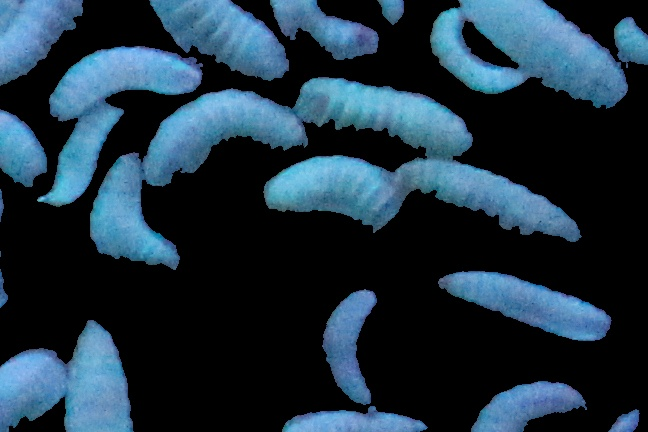larvae: (460, 1, 628, 108), (398, 157, 583, 243), (140, 89, 304, 186), (297, 78, 472, 156), (436, 270, 613, 344), (48, 47, 204, 118), (145, 1, 290, 76), (264, 155, 405, 230), (89, 153, 179, 269), (38, 102, 123, 206), (428, 7, 528, 93), (64, 322, 135, 432), (1, 1, 83, 84), (271, 3, 378, 62), (320, 290, 375, 402), (472, 381, 586, 432), (1, 345, 65, 432), (282, 405, 429, 432), (1, 111, 46, 188)
